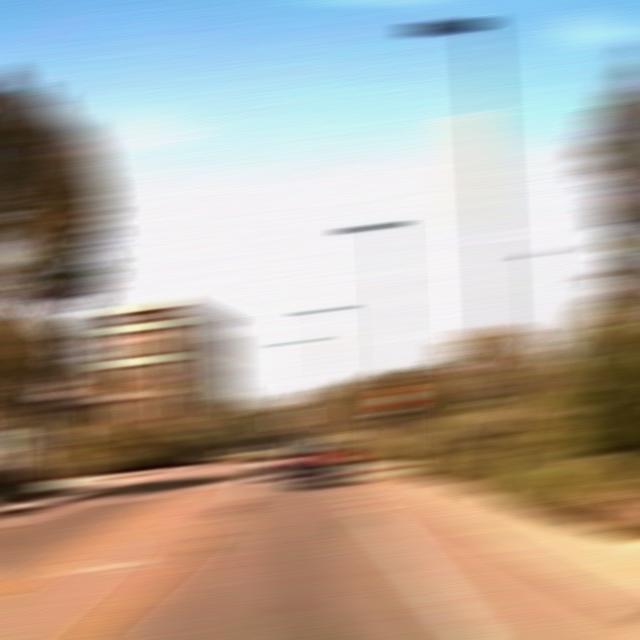stop_sign: (379, 386, 414, 410)
